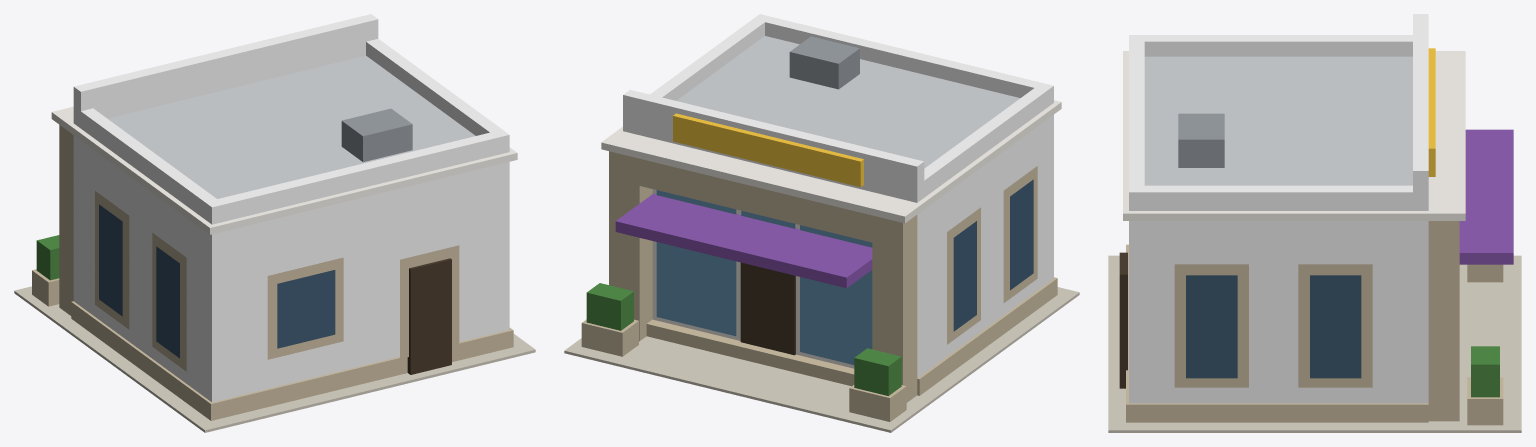
The picture shows the model from 3 angles, left to right: view 1: azimuth 30°, elevation 25°; view 2: azimuth 150°, elevation 25°; view 3: azimuth 270°, elevation 25°; orthographic projection. The views are drawn at different scales.
Visible parts, largest first — view 1: shop, parapet (×4), roof, window_glass (×3), plinth, forecourt, window_frame (×3), cornice, door, ac_unit_body, stone_frame, door_surround (+2 smaller); view 2: roof, parapet (×4), stone_frame (×3), shop, storefront (×2), forecourt, canopy, cornice, sign, window_glass (×2), door, stone_sill (+6 smaller); view 3: shop, roof, parapet (×4), forecourt, window_glass (×2), cornice, window_frame (×2), canopy, stone_frame, plinth, ac_unit_body, planter (×2) (+3 smaller).
Part boxes in pixels (<box>): shop: <box>73,135,509,402</box>; parapet (×4): <box>73,14,509,224</box>; roof: <box>108,55,475,198</box>; window_glass (×3): <box>99,204,335,358</box>; plinth: <box>71,301,513,420</box>; forecourt: <box>14,286,535,432</box>; window_frame (×3): <box>95,191,343,371</box>; cornice: <box>51,106,517,234</box>; door: <box>407,258,451,374</box>; ac_unit_body: <box>341,108,412,162</box>; stone_frame: <box>59,125,73,315</box>; door_surround: <box>400,245,459,358</box>; roof: <box>676,36,1020,168</box>; parapet (×4): <box>623,14,1053,202</box>; stone_frame (×3): <box>609,151,917,402</box>; shop: <box>917,114,1053,378</box>; storefront (×2): <box>656,190,872,364</box>; forecourt: <box>564,287,1079,432</box>; canopy: <box>615,193,872,288</box>; cornice: <box>601,100,1061,223</box>; sign: <box>673,113,863,187</box>; window_glass (×2): <box>953,179,1033,331</box>; door: <box>740,262,795,355</box>; stone_sill: <box>646,319,854,386</box>; shop: <box>1129,221,1428,403</box>; roof: <box>1144,56,1412,185</box>; parapet (×4): <box>1129,14,1428,210</box>; forecourt: <box>1108,255,1521,432</box>; window_glass (×2): <box>1186,275,1361,378</box>; cornice: <box>1123,51,1465,220</box>; window_frame (×2): <box>1174,264,1372,387</box>; canopy: <box>1459,129,1513,264</box>; stone_frame: <box>1428,221,1459,421</box>; plinth: <box>1126,244,1428,422</box>; ac_unit_body: <box>1178,113,1224,167</box>; planter (×2): <box>1467,264,1503,425</box>.
Size of the model in its own units: 8 by 5.41 by 8.
